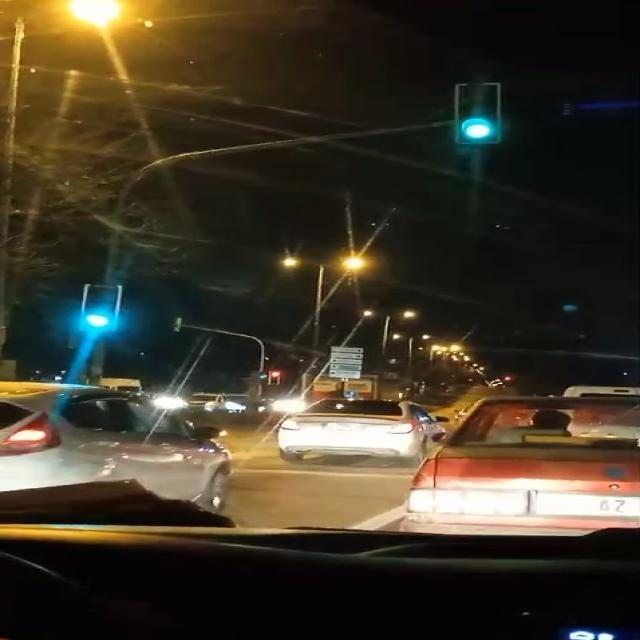yesil: (460, 86, 500, 144), (85, 286, 118, 338)
